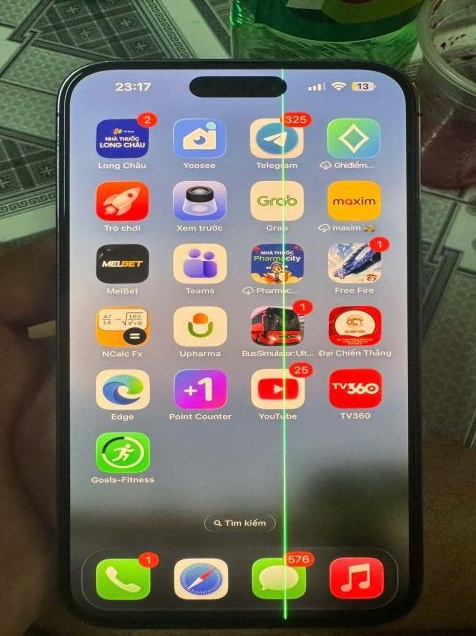screen_defect: (277, 243, 292, 509), (276, 91, 291, 241), (279, 511, 293, 621), (278, 67, 285, 80)
